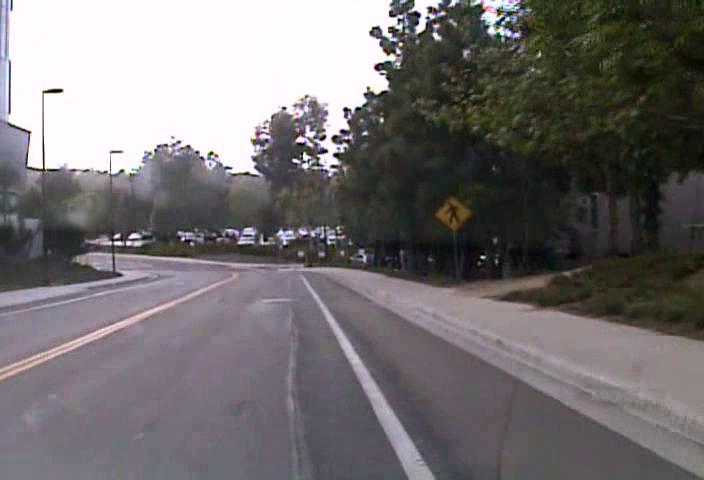pedestrianCrossing: (433, 195, 472, 232)
